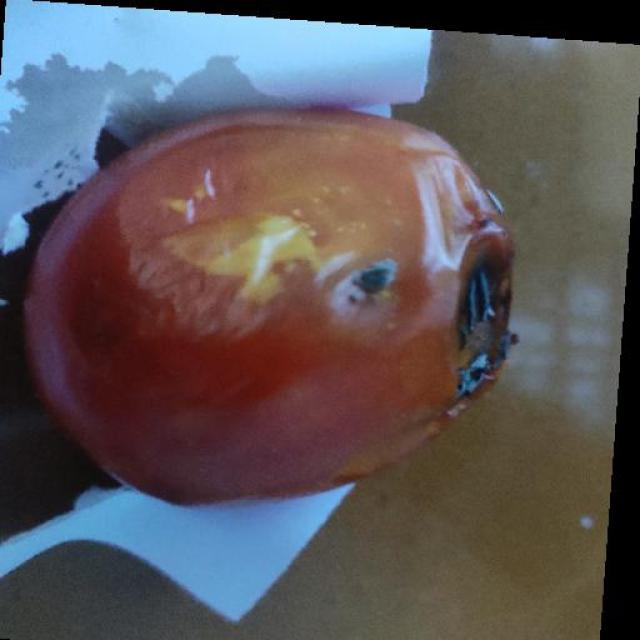Stale_tomato: (16, 118, 520, 458)
